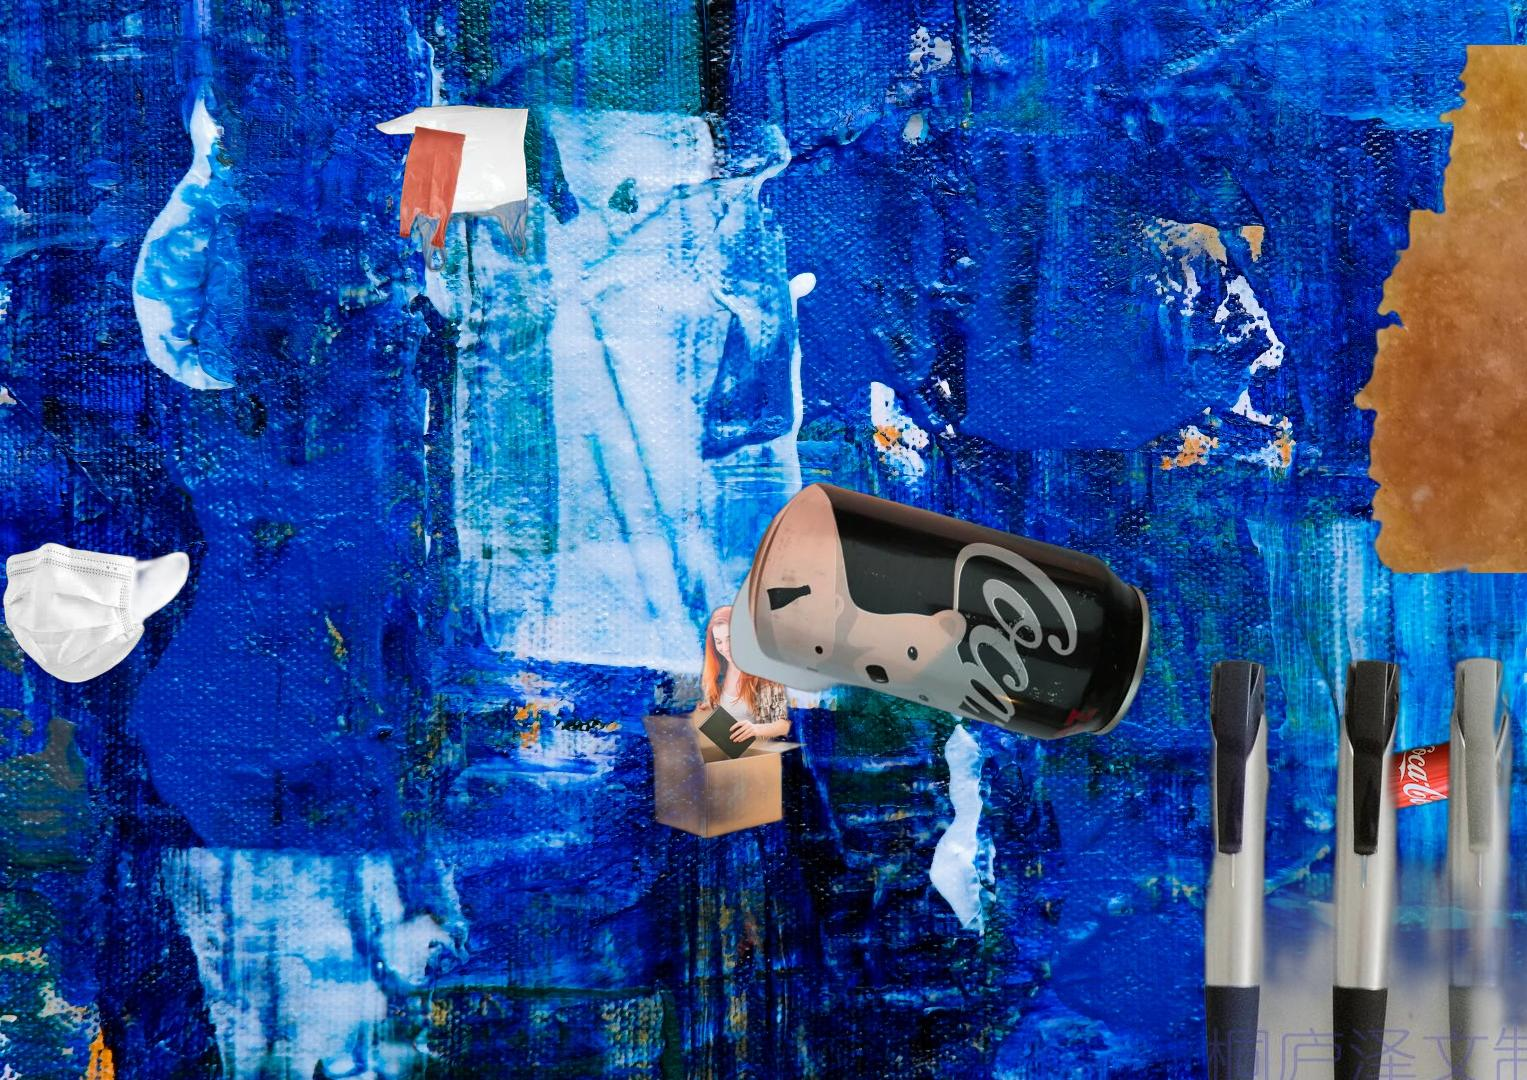biological: (1354, 44, 1527, 573)
metal-cans: (724, 479, 1155, 745), (1351, 726, 1507, 821)
penholder: (1199, 652, 1527, 1080)
plastic-bag: (372, 102, 532, 275)
trash: (0, 540, 193, 686)
trashbox-cardboard: (629, 602, 815, 842)
